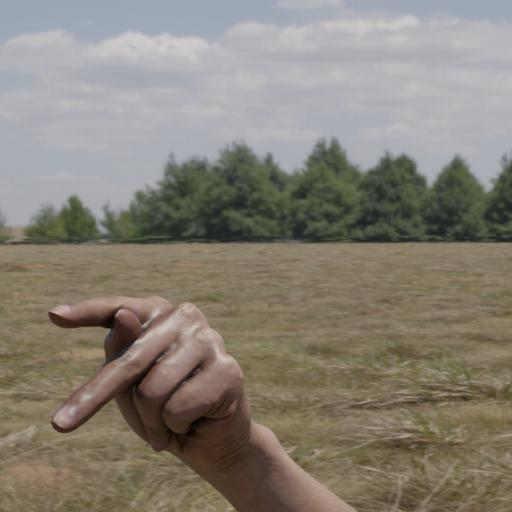P: (34, 284, 264, 494)
